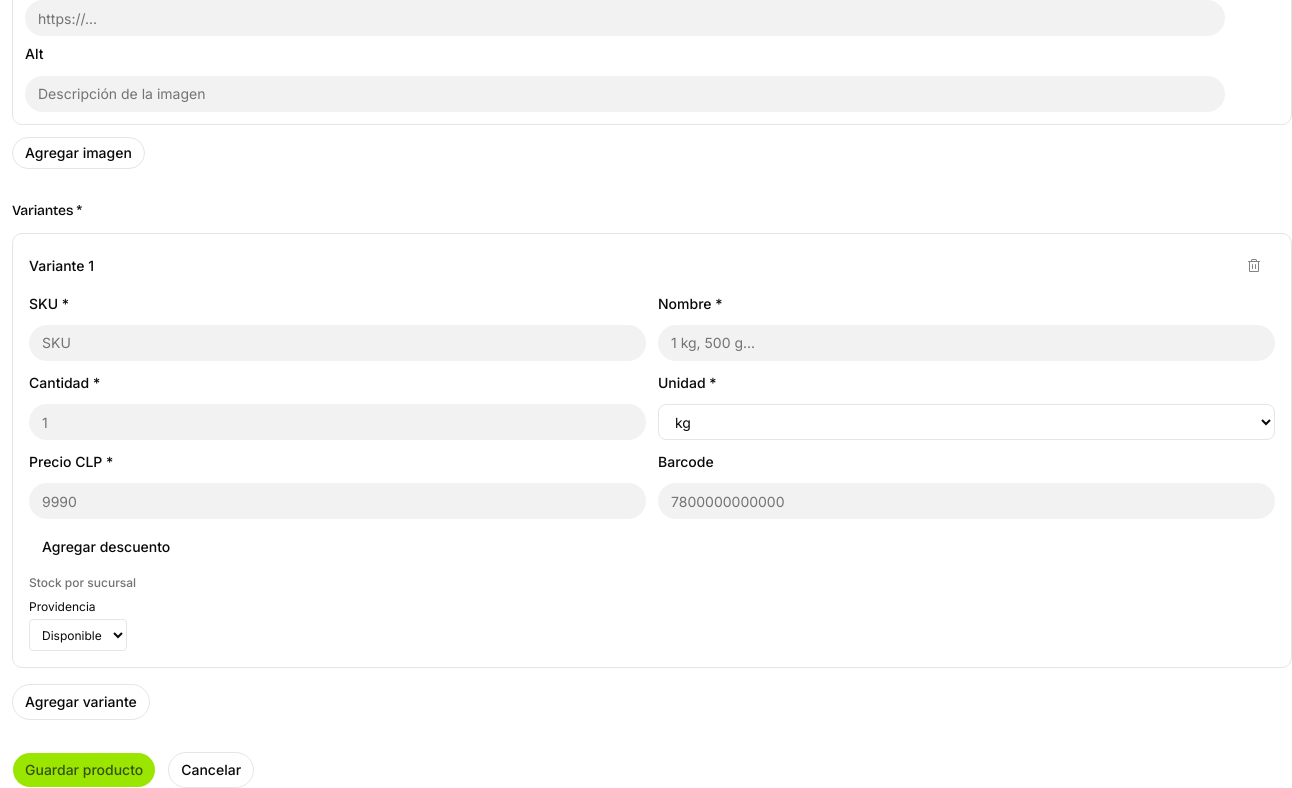
Scenario: ProductForm — compareAt reveal (Phase 9.2) › compareAt input is hidden until 'Agregar descuento' is clicked
The width and height of the screenshot is (1292, 788).
(page scrolled)
Expected: the field labelled "precio de lista" is not shown
Note: Click "Agregar descuento"
Click the button "Agregar descuento" at (106, 547), box [29,531,183,563]
(page scrolled)
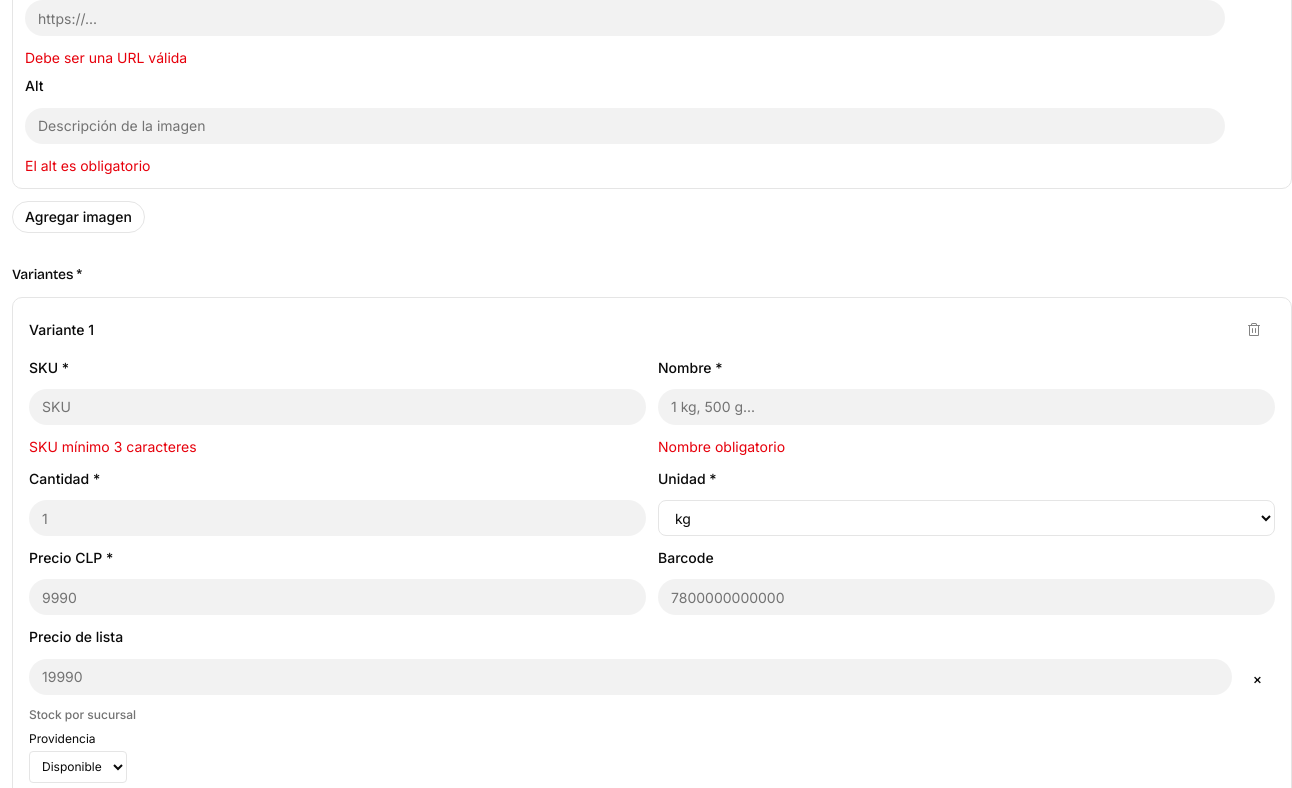
Expected: the number field labelled "Precio de lista" is shown, [29,658,1232,694]
